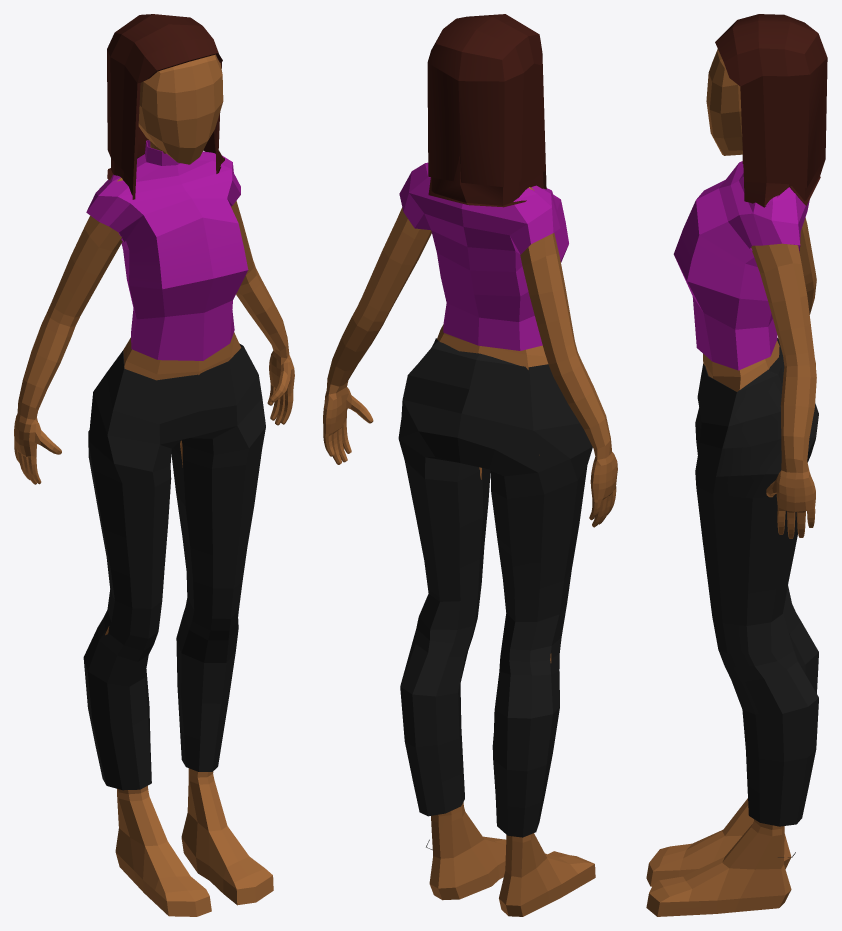
Rendered from ragazzabellauntitled.fbx.
The picture shows the model from 3 angles, left to right: view 1: azimuth 30°, elevation 25°; view 2: azimuth 150°, elevation 25°; view 3: azimuth 270°, elevation 25°; orthographic projection. The views are drawn at different scales.
Parts seen in each view (by area): view 1: Char_Clothes3_Bottom, Cube.003, Char_Clothes3_Top, Char_Hair_Lıng; view 2: Char_Clothes3_Bottom, Cube.003, Char_Hair_Lıng, Char_Clothes3_Top; view 3: Char_Clothes3_Bottom, Cube.003, Char_Hair_Lıng, Char_Clothes3_Top.
Boxes of the visible parts, box(x1,y1,x2,y2) form: Char_Clothes3_Bottom: box(83, 343, 265, 790); Cube.003: box(14, 54, 294, 916); Char_Clothes3_Top: box(86, 140, 248, 360); Char_Hair_Lıng: box(107, 14, 224, 199); Char_Clothes3_Bottom: box(398, 338, 592, 850); Cube.003: box(323, 187, 617, 916); Char_Hair_Lıng: box(427, 14, 546, 207); Char_Clothes3_Top: box(399, 162, 568, 350); Char_Clothes3_Bottom: box(695, 338, 818, 857); Cube.003: box(646, 49, 816, 916); Char_Hair_Lıng: box(715, 14, 827, 207); Char_Clothes3_Top: box(673, 161, 809, 370).
Size of the model in its own units: 269 by 803 by 152.
